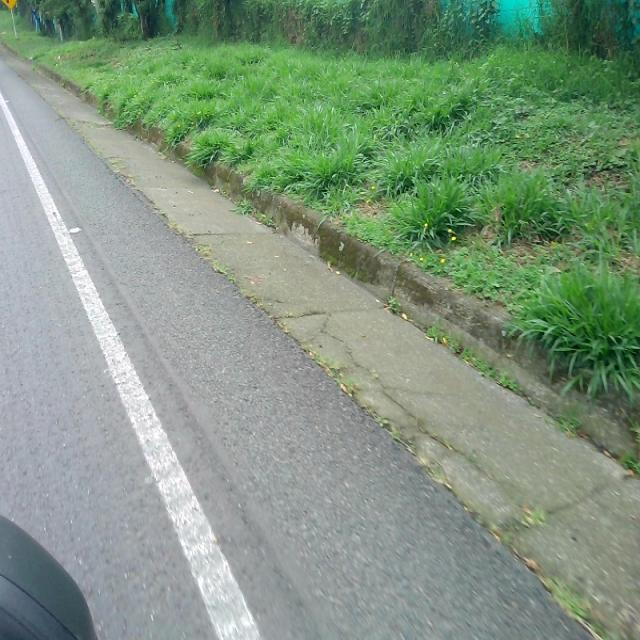DITCH: (35, 6, 638, 638), (2, 42, 637, 639), (46, 70, 639, 638)
